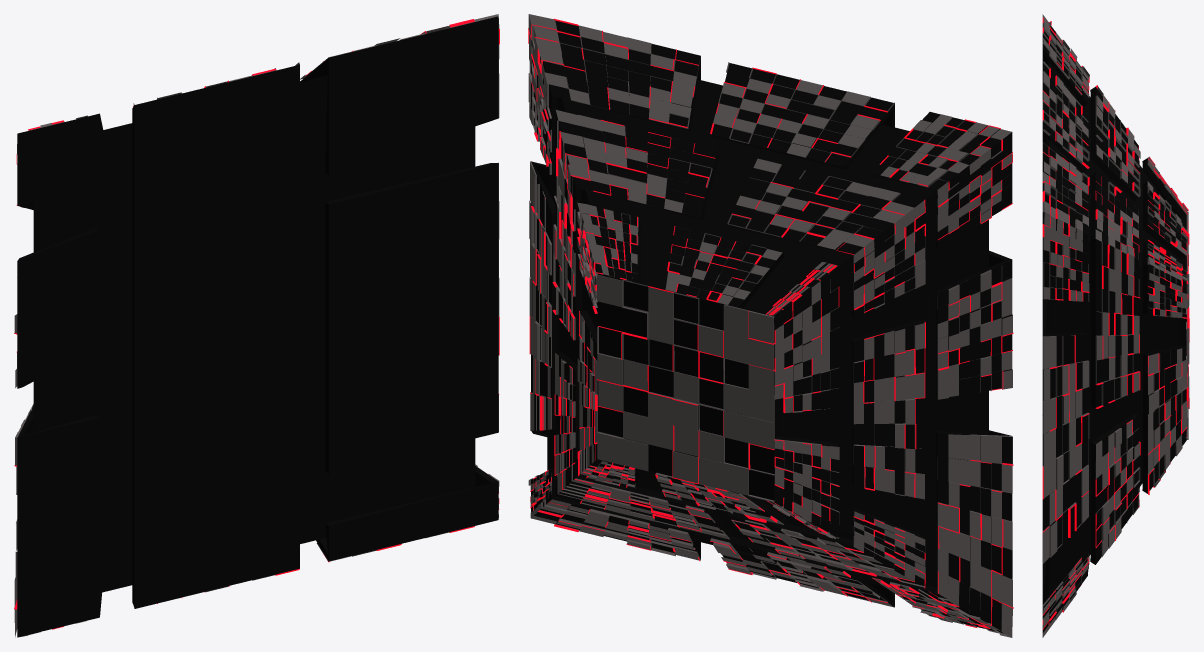
The model's file is PiramideBossBaixo.fbx.
3 views of the same model, side by side, from view 1: azimuth 30°, elevation 25°; view 2: azimuth 150°, elevation 25°; view 3: azimuth 270°, elevation 25° (orthographic). The views are drawn at different scales.
Visible parts, largest first — view 1: baixoBaixo, baixoDentro, baixoRelevo; view 2: baixoRelevo, baixoBaixo, baixoDentro, baixoMeio, baixoCima, baixoMeioRelevo, baixoCimaRelevoCima, baixoCimaRelevoLado, baixoRelevo.001, baixoMeioRelevo.001, baixoCimaRelevoLado.001, baixoCimaRelevoCima.001; view 3: baixoRelevo, baixoMeio, baixoBaixo, baixoDentro, baixoMeioRelevo, baixoCima, baixoCimaRelevoLado, baixoRelevo.001, baixoMeioRelevo.001, baixoCimaRelevoLado.001, baixoCimaRelevoCima.
Part boxes in pixels (bbox=[...]): baixoBaixo: bbox=[17, 16, 498, 637]; baixoDentro: bbox=[33, 75, 475, 592]; baixoRelevo: bbox=[14, 14, 499, 637]; baixoRelevo: bbox=[528, 14, 1012, 637]; baixoBaixo: bbox=[531, 20, 1012, 633]; baixoDentro: bbox=[547, 79, 988, 587]; baixoMeio: bbox=[555, 110, 924, 585]; baixoCima: bbox=[580, 207, 839, 537]; baixoMeioRelevo: bbox=[553, 110, 925, 587]; baixoCimaRelevoCima: bbox=[597, 274, 774, 502]; baixoCimaRelevoLado: bbox=[577, 202, 839, 538]; baixoRelevo.001: bbox=[528, 18, 1013, 628]; baixoMeioRelevo.001: bbox=[552, 120, 925, 588]; baixoCimaRelevoLado.001: bbox=[577, 209, 839, 534]; baixoCimaRelevoCima.001: bbox=[597, 286, 774, 484]; baixoRelevo: bbox=[1042, 14, 1089, 637]; baixoMeio: bbox=[1090, 87, 1138, 564]; baixoBaixo: bbox=[1042, 26, 1087, 632]; baixoDentro: bbox=[1048, 61, 1180, 594]; baixoMeioRelevo: bbox=[1095, 86, 1140, 556]; baixoCima: bbox=[1142, 158, 1186, 493]; baixoCimaRelevoLado: bbox=[1147, 156, 1188, 493]; baixoRelevo.001: bbox=[1042, 17, 1089, 629]; baixoMeioRelevo.001: bbox=[1095, 85, 1140, 547]; baixoCimaRelevoLado.001: bbox=[1147, 157, 1188, 494]; baixoCimaRelevoCima: bbox=[1186, 211, 1189, 439].
Bounding box in the file's own units: 758 × 758 × 235.
